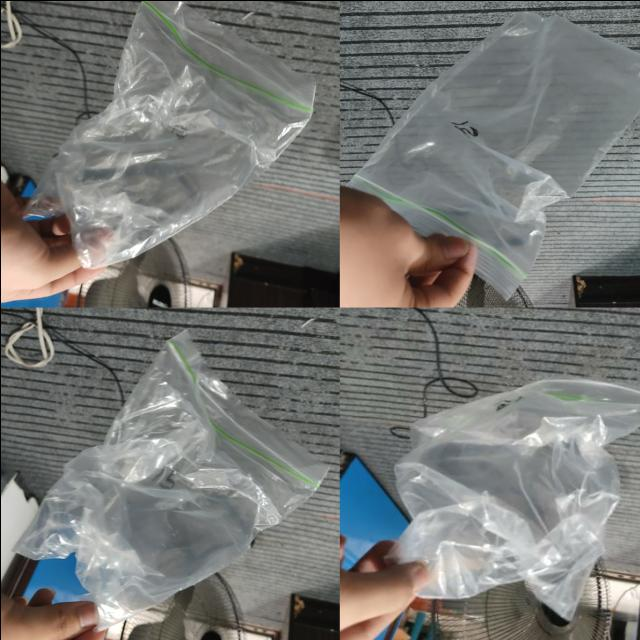plastik: (17, 331, 327, 627), (350, 12, 640, 296), (25, 0, 315, 268), (391, 378, 640, 618)
